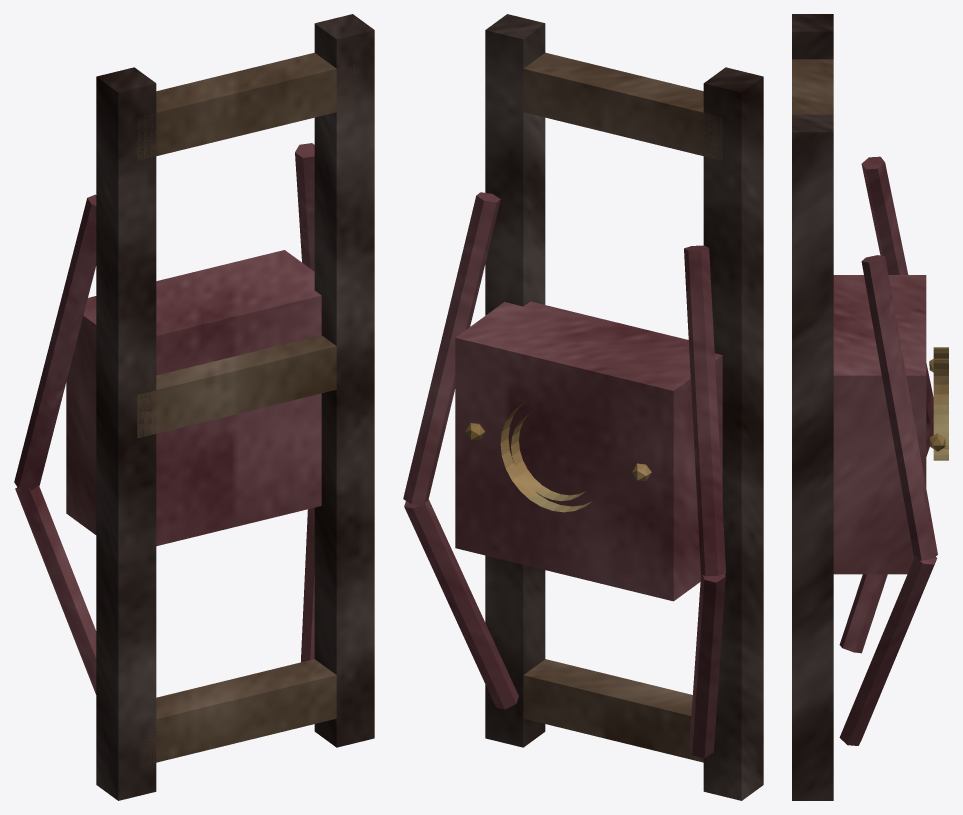
The model's file is 0836_carrier_frame_11.glb.
3 renders of one model, left to right at view 1: azimuth 30°, elevation 25°; view 2: azimuth 150°, elevation 25°; view 3: azimuth 270°, elevation 25°, orthographic. The views are drawn at different scales.
Visible parts, largest first — view 1: wood_dark, cloth, wood; view 2: cloth, wood_dark, wood, brass; view 3: cloth, wood_dark, wood, brass.
Part boxes in pixels (x1,y1,x2,y2): wood_dark: (96,14,374,800); cloth: (14,143,321,694); wood: (137,52,355,766); cloth: (403,192,725,758); wood_dark: (485,14,763,800); wood: (504,52,722,766); brass: (465,401,651,512); cloth: (833,156,937,745); wood_dark: (792,14,833,800); wood: (792,59,833,114); brass: (929,347,948,460).
Bounding box in the file's own units: 0.921 × 1.95 × 0.415.
Materials: 4 (4 with a texture image).
